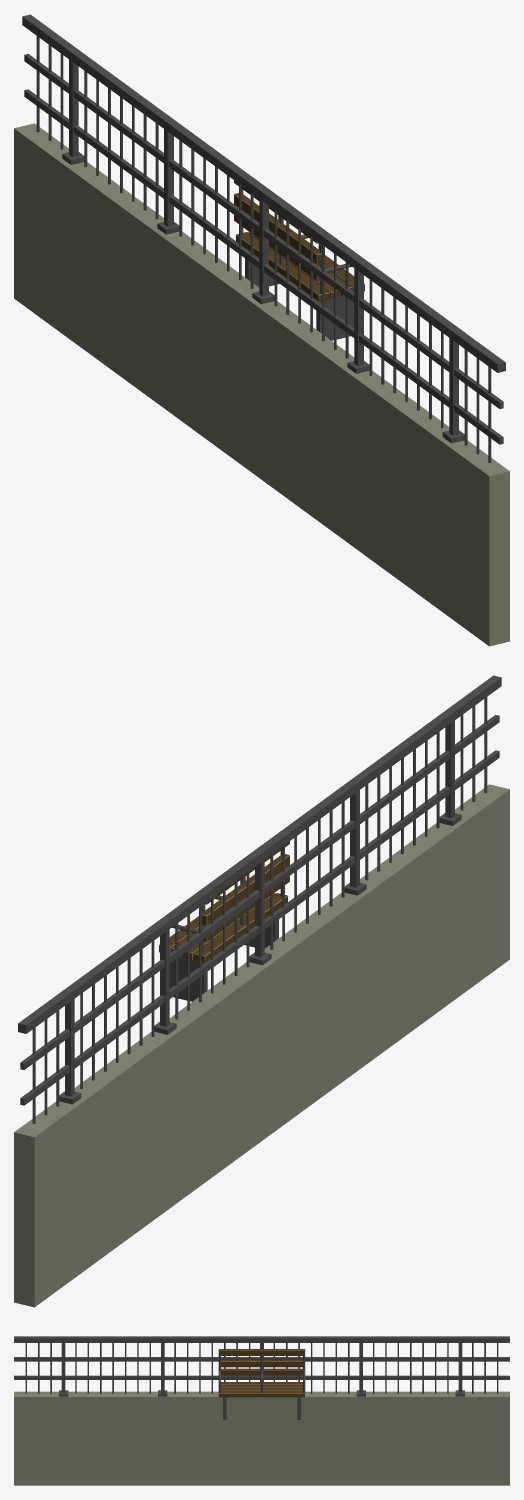
Rendered from platform_wall_close.fbx.
3 renders of one model, top to bottom at view 1: azimuth 30°, elevation 25°; view 2: azimuth 150°, elevation 25°; view 3: azimuth 270°, elevation 25°, orthographic. The views are drawn at different scales.
Parts seen in each view (by area): view 1: p451/platform_wall_close; view 2: p451/platform_wall_close; view 3: p451/platform_wall_close.
Part boxes in pixels (x1,y1,x2,y2): p451/platform_wall_close: [14, 14, 509, 646]; p451/platform_wall_close: [14, 675, 509, 1307]; p451/platform_wall_close: [14, 1336, 509, 1485].
Bounding box in the file's own units: 0.7 × 2.6 × 8.
